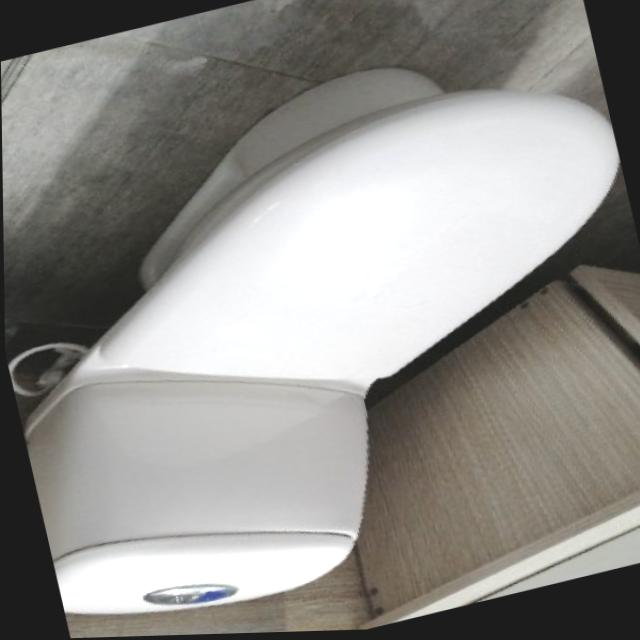toilet: (0, 19, 640, 640)
